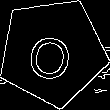O_N: (27, 23, 78, 81)
